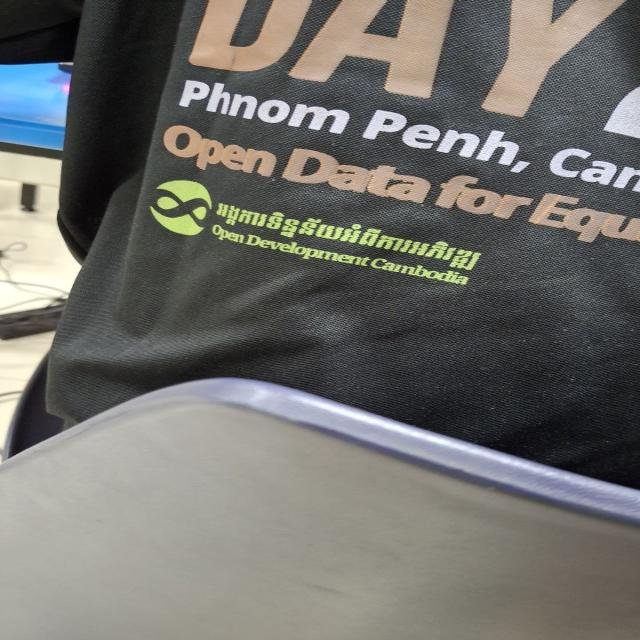Yolov11_80vkh: (198, 189, 513, 276)
